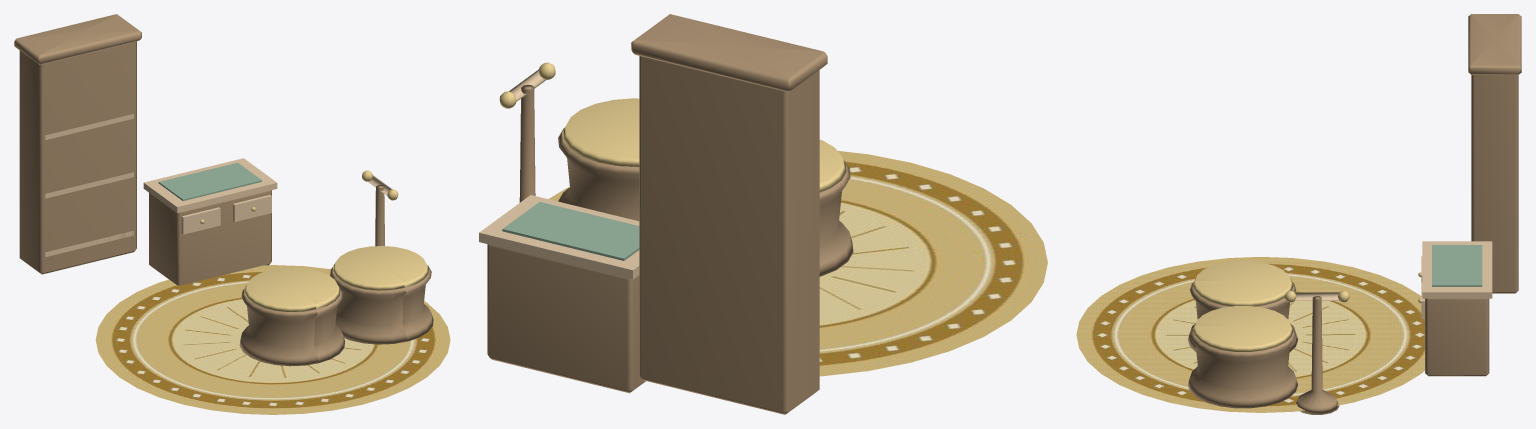
File: attention_furniture.glb
3 renders of one model, left to right at view 1: azimuth 30°, elevation 25°; view 2: azimuth 150°, elevation 25°; view 3: azimuth 270°, elevation 25°, orthographic. The views are drawn at different scales.
Parts seen in each view (by area): view 1: Attention_Furniture_Set; view 2: Attention_Furniture_Set; view 3: Attention_Furniture_Set.
Boxes of the visible parts, bbox=[...] form: Attention_Furniture_Set: bbox=[14, 14, 450, 414]; Attention_Furniture_Set: bbox=[479, 14, 1047, 414]; Attention_Furniture_Set: bbox=[1076, 14, 1521, 414].
Size of the model in its own units: 2.64 by 2.02 by 3.18.
6 materials, 1 textured.
